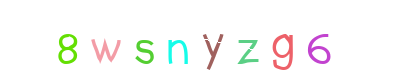6: (278, 0, 358, 80)
8: (57, 0, 137, 80)
G: (243, 0, 323, 80)
N: (158, 0, 238, 80)
S: (137, 0, 217, 80)
W: (127, 0, 207, 80)
Y: (160, 0, 240, 80)
Z: (172, 0, 252, 80)
